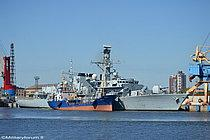MIL_Ship: (15, 44, 190, 112)
